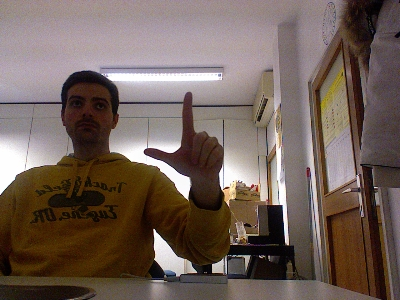枪: (142, 90, 224, 179)
